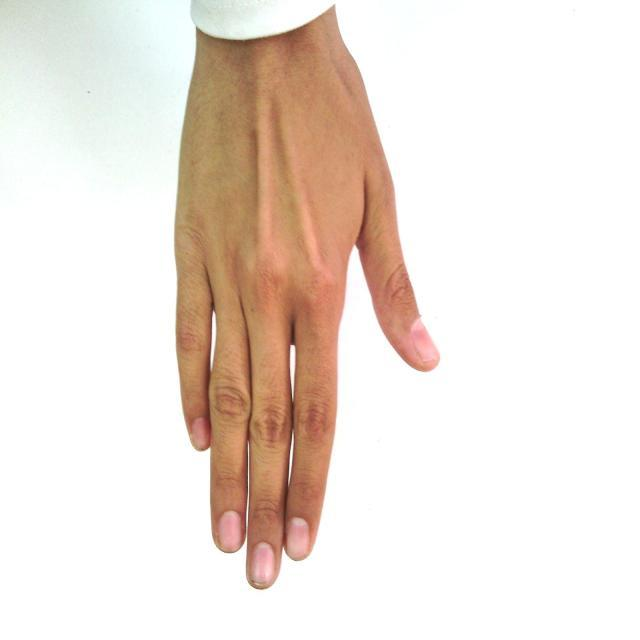Fingernail: (250, 542, 275, 587), (412, 319, 438, 362), (286, 518, 309, 560), (219, 512, 242, 552), (192, 419, 209, 449)
